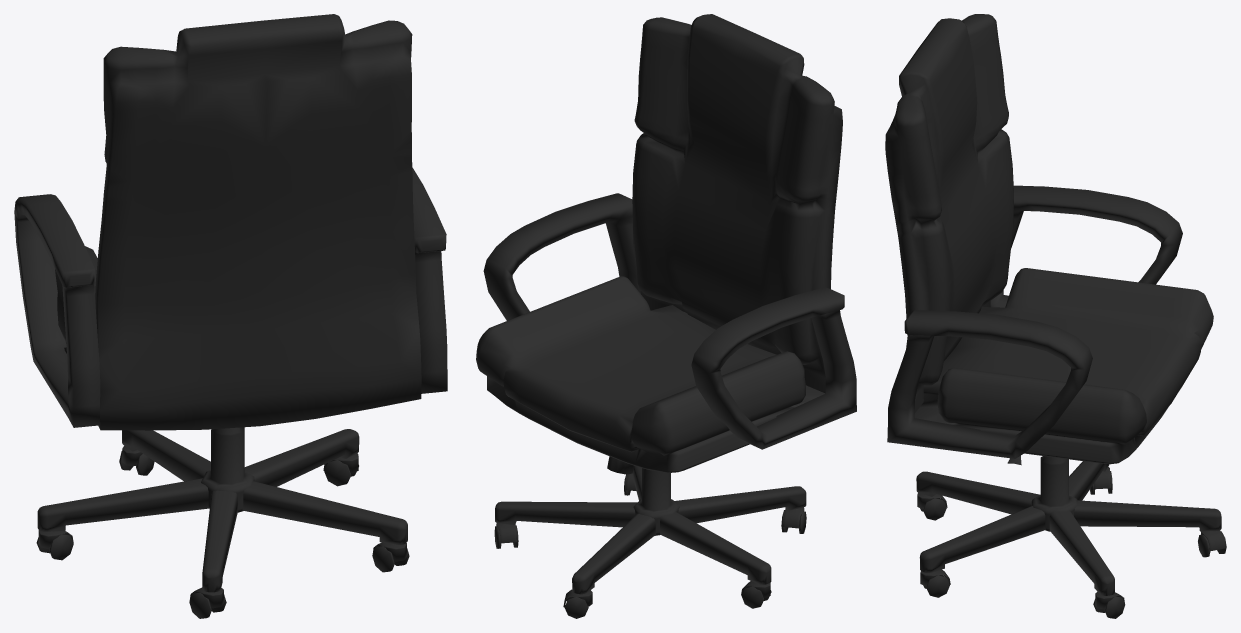
Rendered from Silla.obj.
3 renders of one model, left to right at view 1: azimuth 30°, elevation 25°; view 2: azimuth 150°, elevation 25°; view 3: azimuth 270°, elevation 25°, orthographic. The views are drawn at different scales.
Parts seen in each view (by area): view 1: pCube37; view 2: pCube37; view 3: pCube37.
Part boxes in pixels (<box>): pCube37: <box>14,14,447,618</box>; pCube37: <box>476,14,856,618</box>; pCube37: <box>885,14,1226,618</box>.
Bounding box in the file's own units: 2.85 × 4.11 × 2.57.
1 material, 1 textured.
